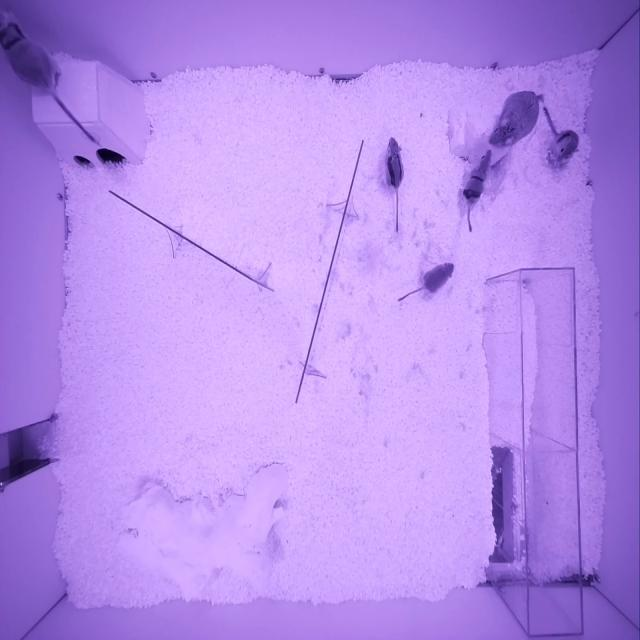adult_back: (488, 91, 539, 148)
adult_front: (0, 9, 61, 94)
pup_fluffy: (422, 263, 455, 293)
pup_h_stripe: (461, 149, 492, 206)
pup_spotted: (546, 128, 579, 166)
pup_v_stripe: (384, 137, 404, 191)
